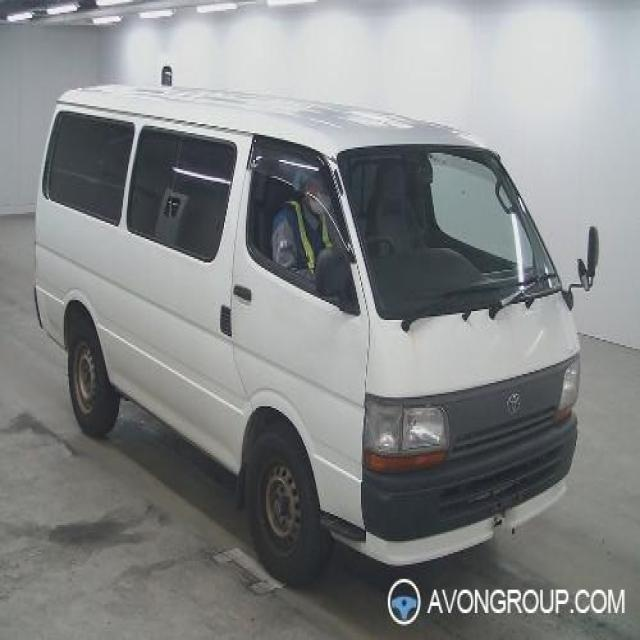Van: (42, 65, 595, 559)
